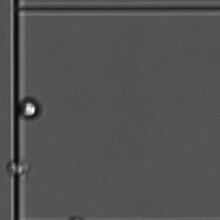Dead Cell: (3, 155, 33, 185)
Living Cell: (14, 94, 49, 129)
